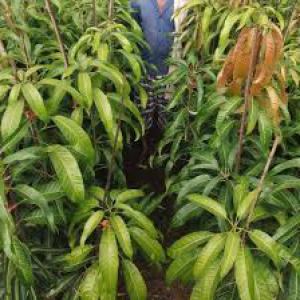Tree: (5, 0, 298, 299)
